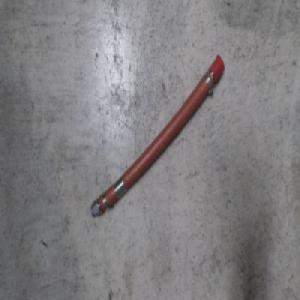Hose: (89, 52, 227, 220)
